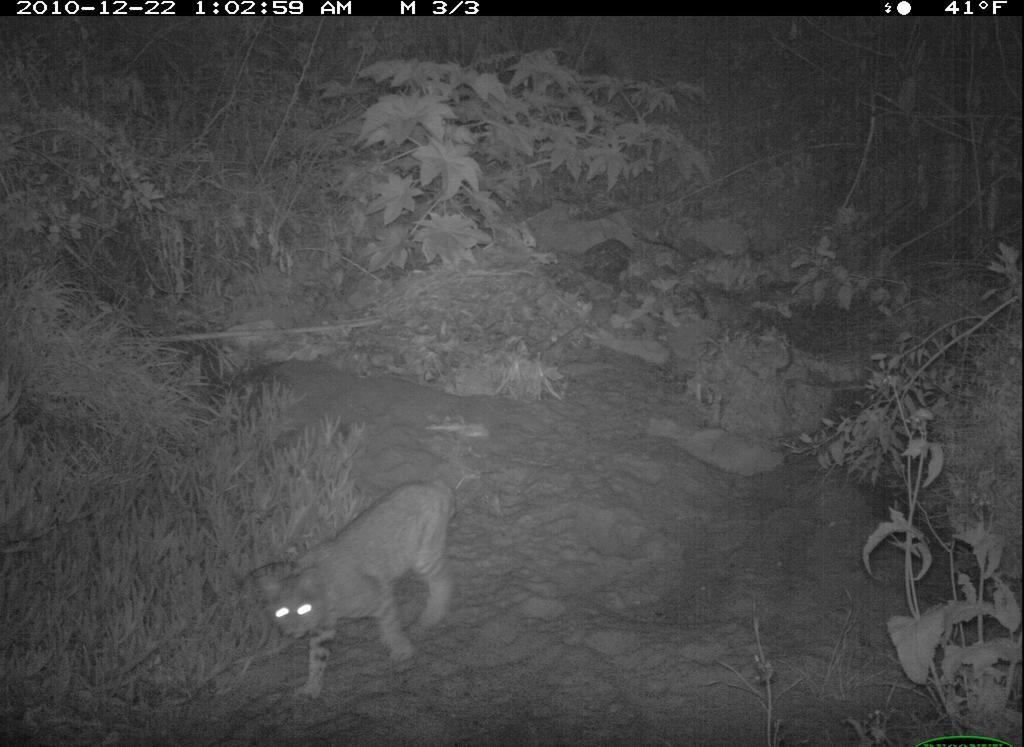bobcat: (241, 472, 479, 696)
